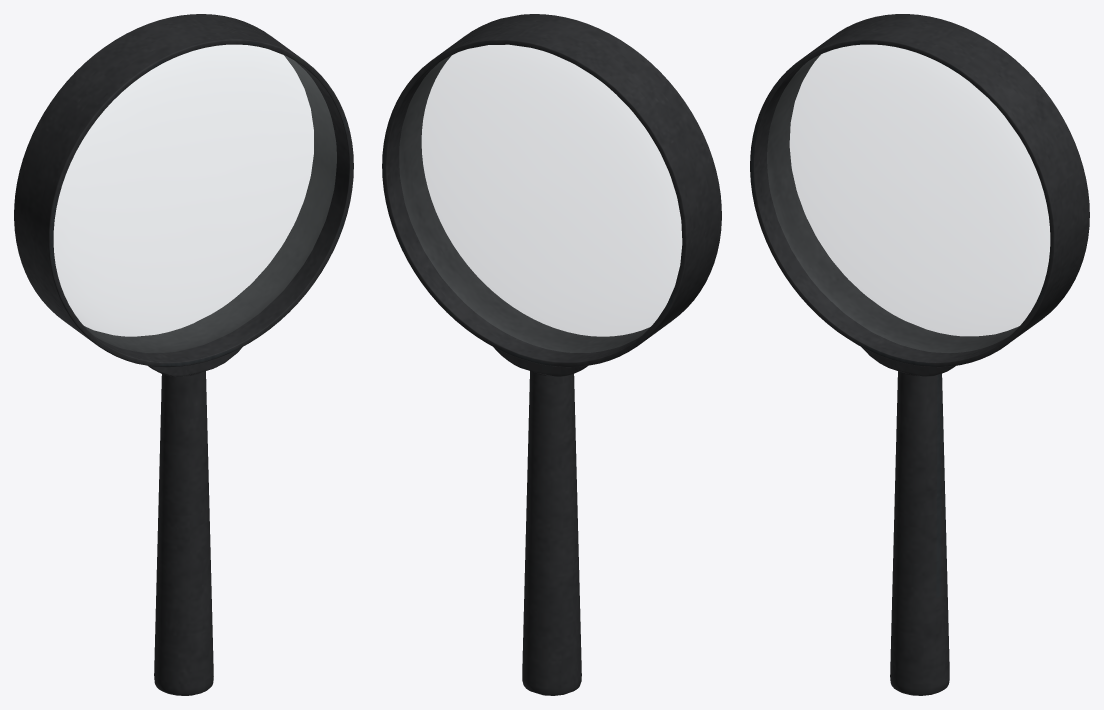
Rendered from magnifying_glass_01.glb.
3 views of the same model, side by side, from view 1: azimuth 30°, elevation 25°; view 2: azimuth 150°, elevation 25°; view 3: azimuth 330°, elevation 25° (orthographic).
Parts seen in each view (by area): view 1: magnifying_glass_01_lense, magnifying_glass_01; view 2: magnifying_glass_01_lense, magnifying_glass_01; view 3: magnifying_glass_01_lense, magnifying_glass_01.
Part boxes in pixels (x1,y1,x2,y2): magnifying_glass_01_lense: (54, 45, 336, 352); magnifying_glass_01: (14, 14, 353, 695); magnifying_glass_01_lense: (399, 45, 681, 352); magnifying_glass_01: (382, 14, 721, 695); magnifying_glass_01_lense: (767, 45, 1049, 352); magnifying_glass_01: (750, 14, 1089, 695).
Size of the model in its own units: 0.1321 by 0.2716 by 0.0267.
2 materials, 1 textured.
